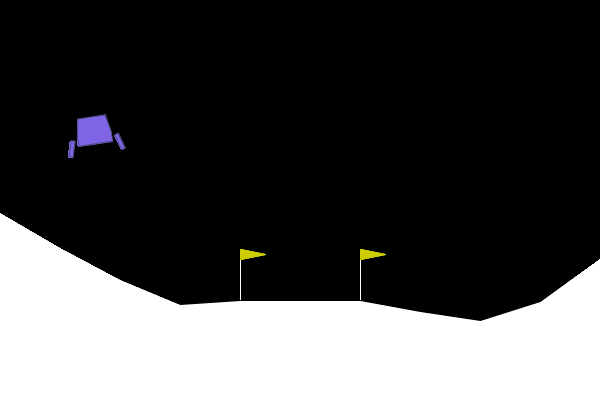lander: (61, 111, 127, 159)
